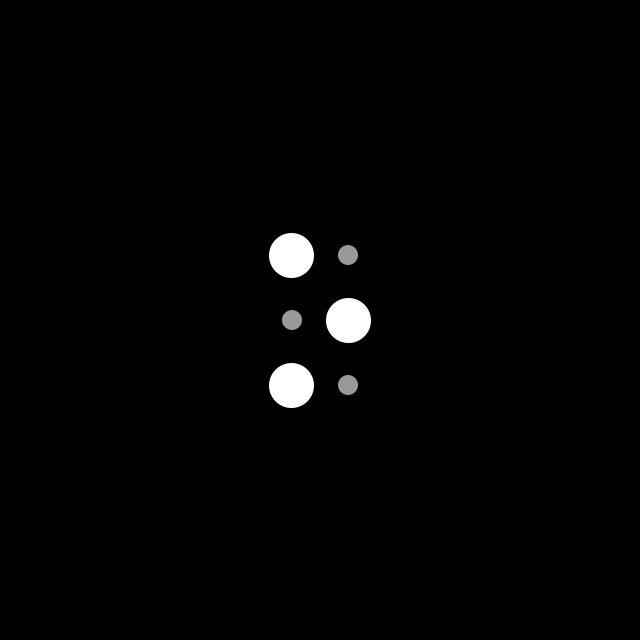O: (266, 229, 372, 413)
